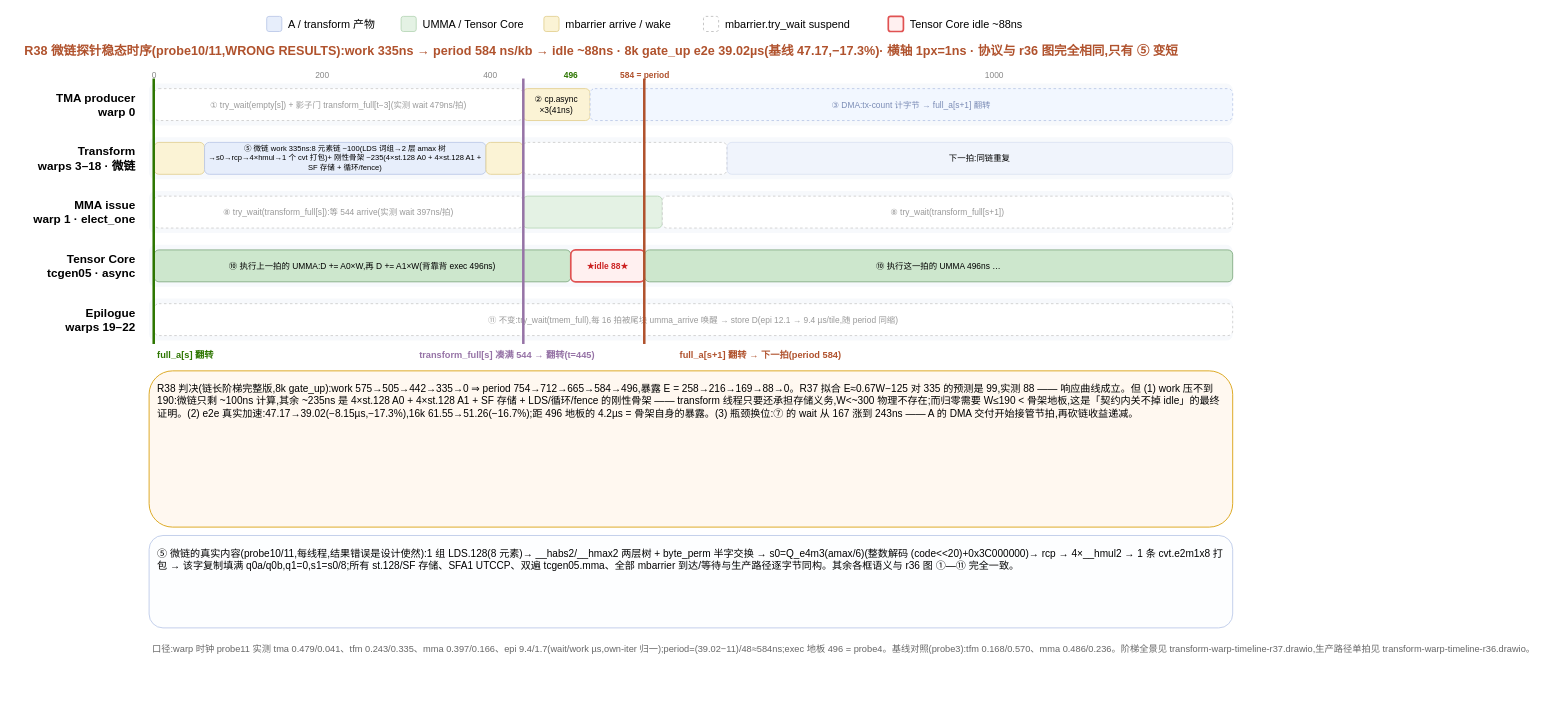
Image size: 1549x701. Some labels were removed from this diagram. The centre of each missing label's shape, as x and y in pixels:
④ 唤醒 ~60: pixel 179 158
⑥ arrive: pixel 504 158
⑦ try_wait(full_a[s+1]) ~243ns:A 的 DMA 变成显性瓶颈: pixel 624 158
⑨ UTCCP + 2×UMMA 发射 166ns → umma_arrive(empty[s]): pixel 592 211
